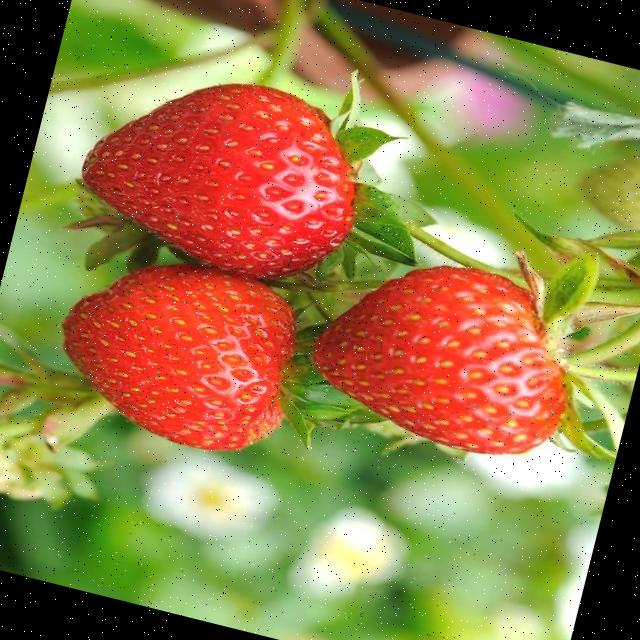strawberry: (81, 85, 354, 276), (312, 265, 564, 453), (61, 264, 293, 450)
